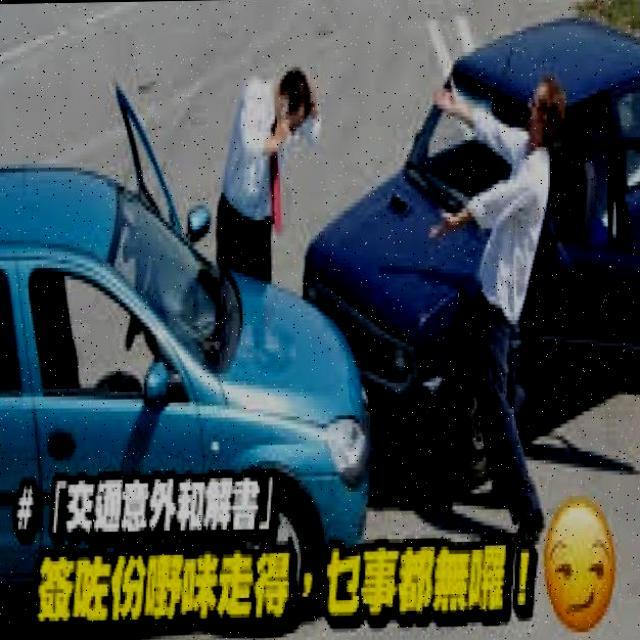accident: (155, 124, 515, 564)
